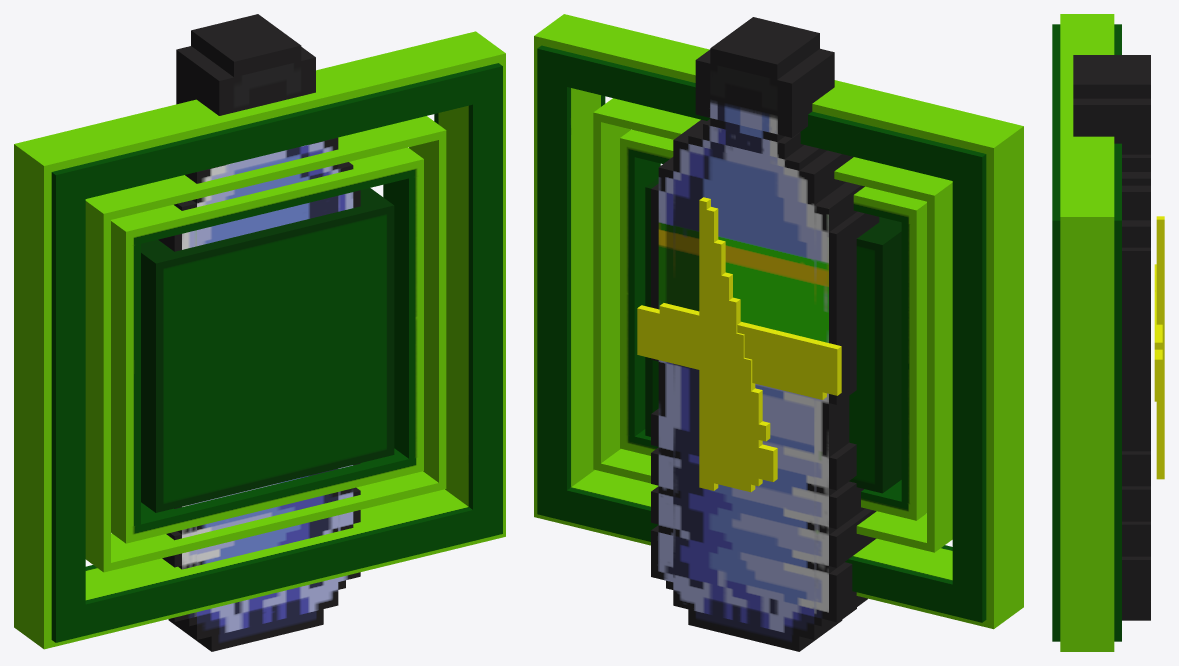
The model's file is drink.fbx.
3 renders of one model, left to right at view 1: azimuth 30°, elevation 25°; view 2: azimuth 150°, elevation 25°; view 3: azimuth 270°, elevation 25°, orthographic. The views are drawn at different scales.
Parts seen in each view (by area): view 1: drink; view 2: drink; view 3: drink.
Part boxes in pixels (x1=…): drink: x1=14, y1=14, x2=505, y2=651; drink: x1=534, y1=14, x2=1023, y2=651; drink: x1=1052, y1=14, x2=1164, y2=651.
Bounding box in the file's own units: 620 × 750 × 145.
1 material, 1 textured.
